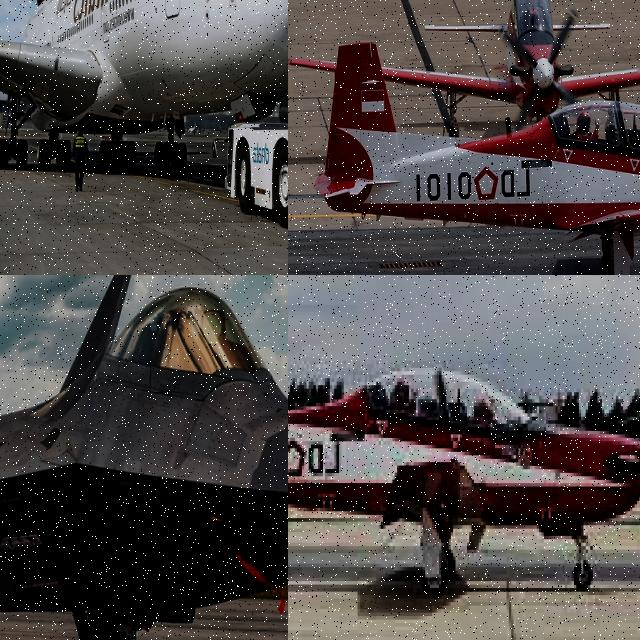A380: (0, 0, 288, 176)
F22: (0, 275, 288, 640)
KT-1: (288, 294, 640, 595), (317, 43, 640, 275), (289, 0, 640, 114)
